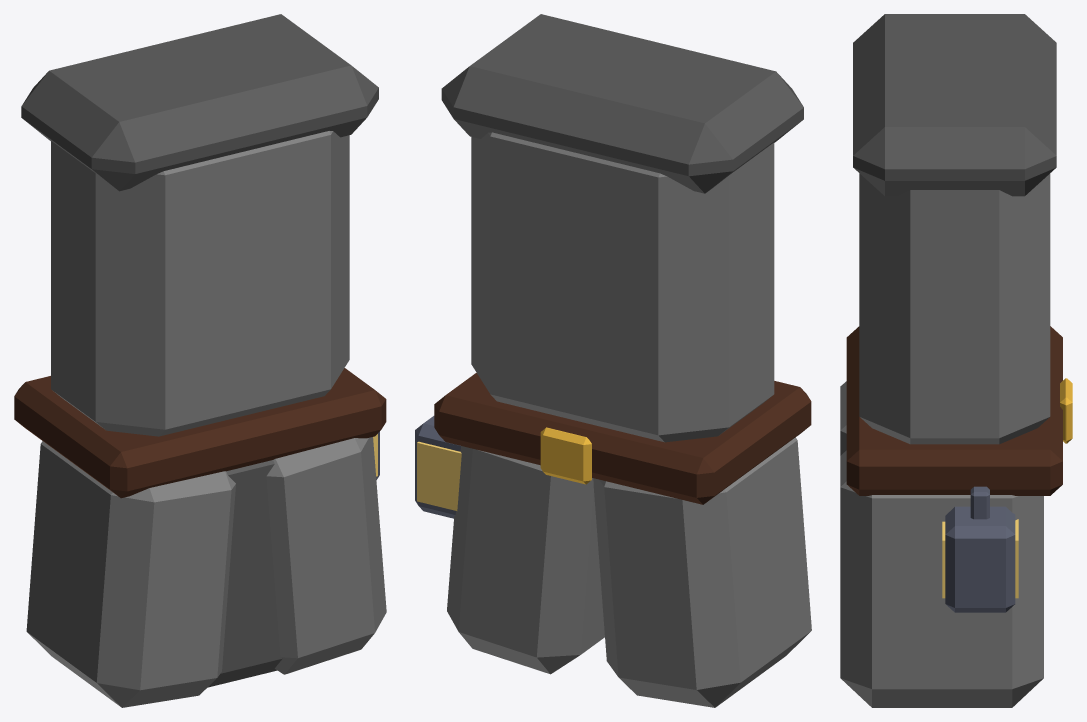
Rendered from becchino_corpo.glb.
3 views of the same model, side by side, from view 1: azimuth 30°, elevation 25°; view 2: azimuth 150°, elevation 25°; view 3: azimuth 270°, elevation 25° (orthographic).
Visible parts, largest first — view 1: becchino_corpo2; view 2: becchino_corpo2; view 3: becchino_corpo2.
Part boxes in pixels (x1,y1,x2,y2): becchino_corpo2: (14, 14, 386, 707); becchino_corpo2: (415, 14, 811, 707); becchino_corpo2: (840, 14, 1072, 707).
Bounding box in the file's own units: 0.5874 × 1.01 × 0.365.
